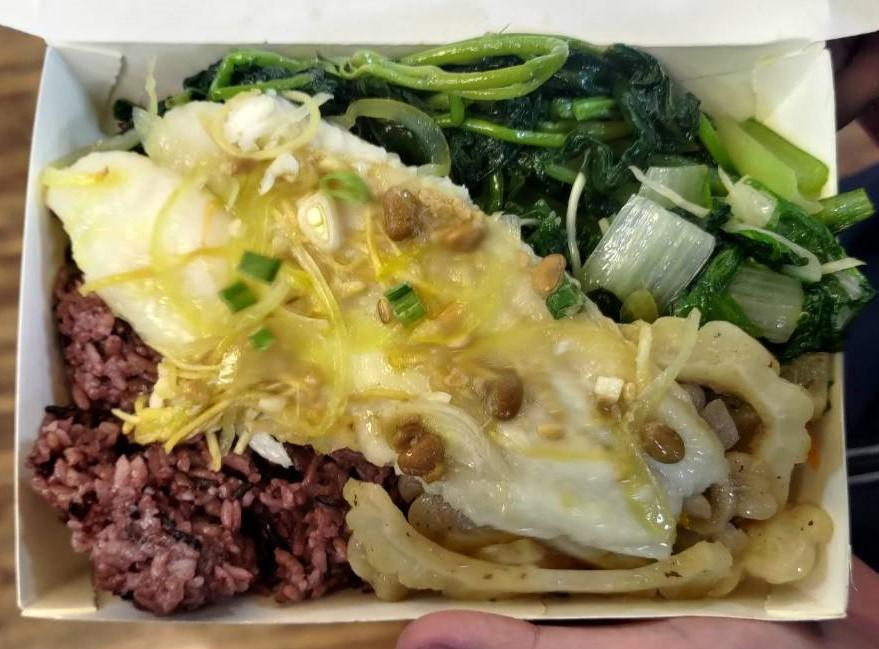big grilled chicken leg: (5, 29, 864, 639)
braised fish: (40, 242, 401, 602)
braised fish fillet: (354, 366, 826, 601), (198, 37, 694, 233), (590, 135, 857, 344)
braised pork ribs: (49, 97, 728, 558)
